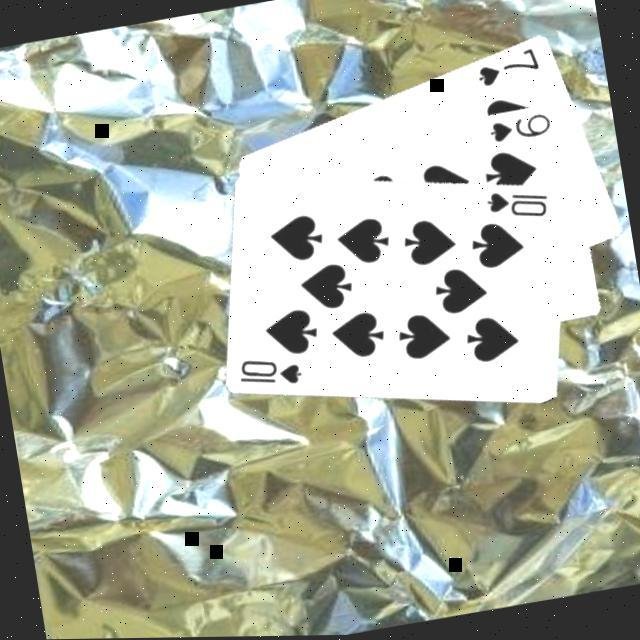10S: (483, 178, 556, 228), (235, 346, 309, 394)
7S: (473, 41, 546, 90)
9S: (486, 106, 558, 147)
